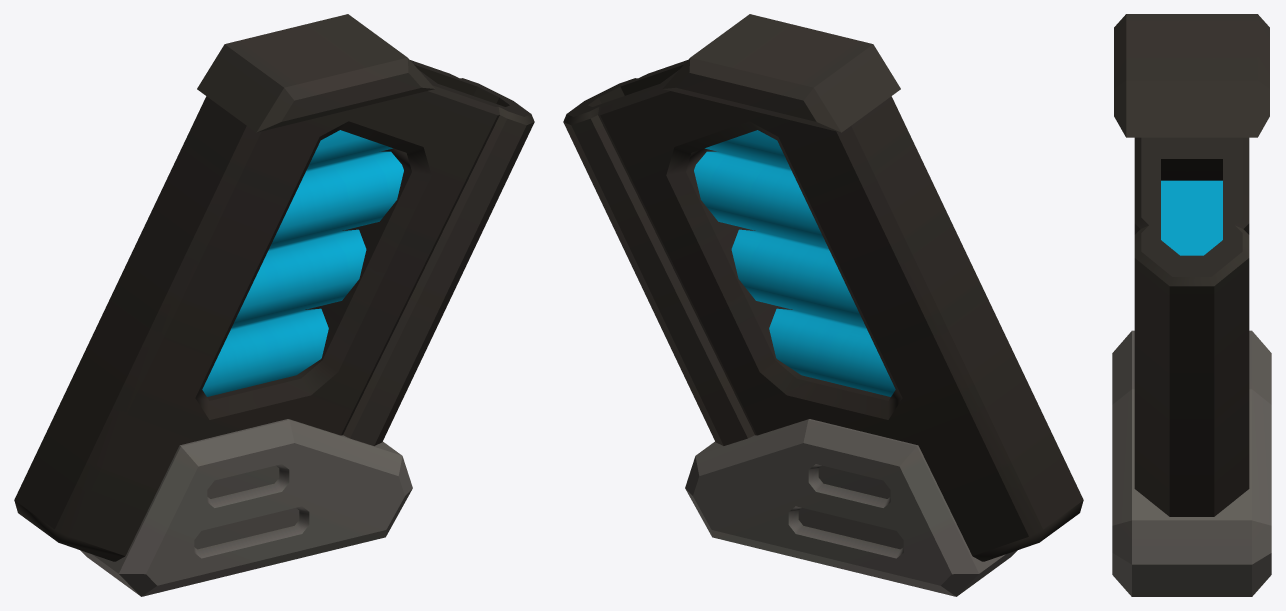
Rendered from SMG10_Magazine.fbx.
3 views of the same model, side by side, from view 1: azimuth 30°, elevation 25°; view 2: azimuth 150°, elevation 25°; view 3: azimuth 270°, elevation 25° (orthographic). The views are drawn at different scales.
Parts seen in each view (by area): view 1: SMG10_Magazine; view 2: SMG10_Magazine; view 3: SMG10_Magazine.
Part boxes in pixels (bbox=[...]): SMG10_Magazine: bbox=[14, 14, 534, 596]; SMG10_Magazine: bbox=[563, 14, 1083, 596]; SMG10_Magazine: bbox=[1112, 14, 1271, 596].
Size of the model in its own units: 10.62 by 9.87 by 2.7.
